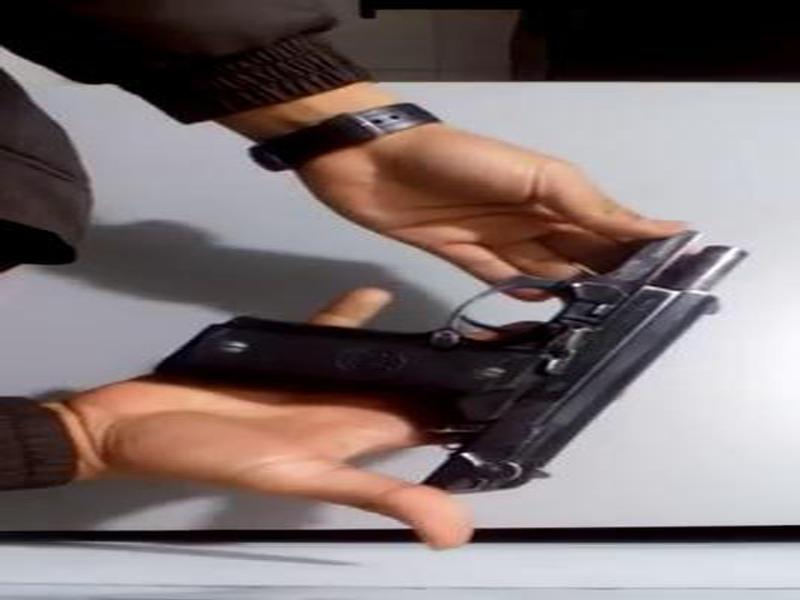Pistola: (150, 208, 760, 513)
